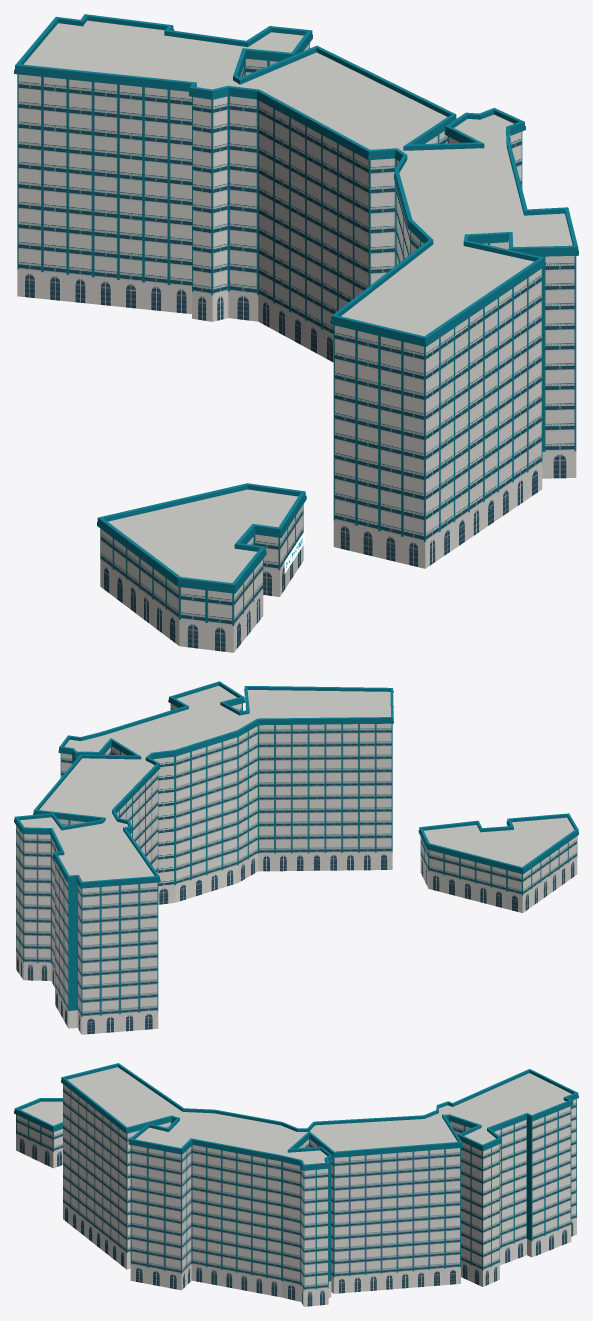
File: divephoenix.glb
3 views of the same model, one above another, from view 1: azimuth 30°, elevation 25°; view 2: azimuth 150°, elevation 25°; view 3: azimuth 270°, elevation 25° (orthographic). The views are drawn at different scales.
Parts seen in each view (by area): view 1: divephoenix_lod0; view 2: divephoenix_lod0; view 3: divephoenix_lod0.
Boxes of the visible parts, box(x1,y1,x2,y2) form: divephoenix_lod0: box(14, 14, 578, 652); divephoenix_lod0: box(14, 681, 578, 1034); divephoenix_lod0: box(14, 1063, 578, 1306).
Size of what is drawn, in the model's own units: 92.57 by 36.4 by 132.
5 materials, 3 textured.
